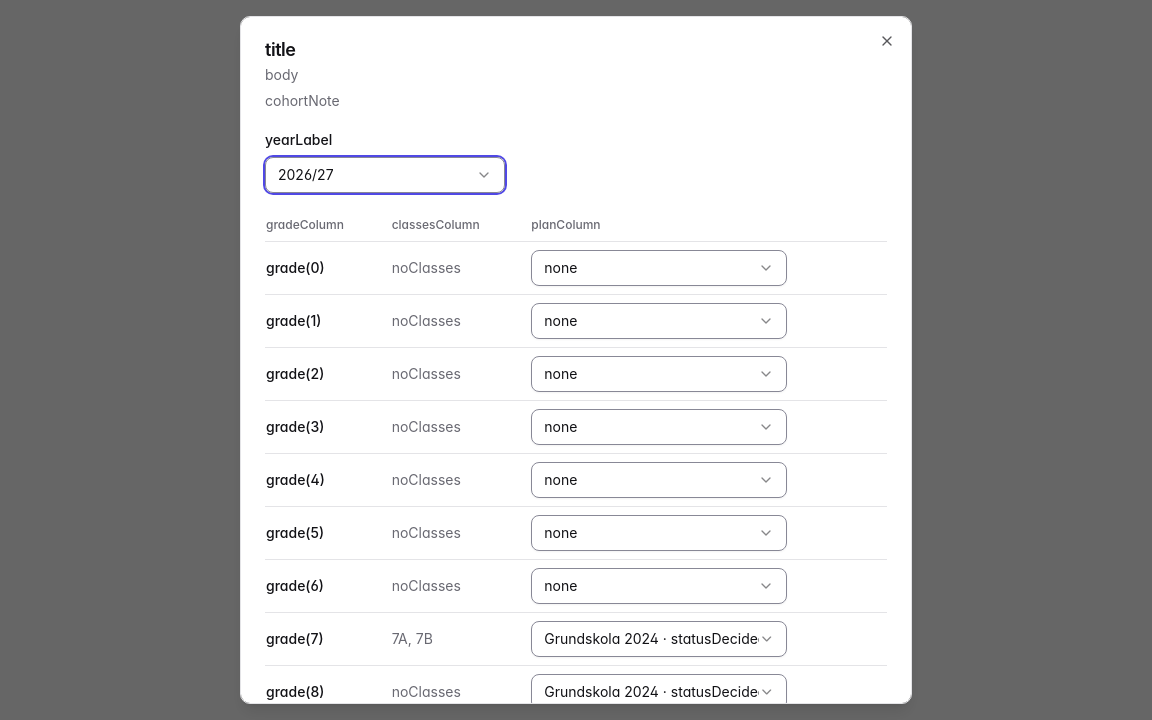
Test case: YearTimplansDialog › will not switch läsår over unsaved choices
The width and height of the screenshot is (1152, 720).
Expected: the dropdown named "yearLabel" is enabled, top-left (265, 157), bottom-right (505, 193)
Click the dropdown labelled "none" in the row of "grade(0)". click: (659, 268)
box: top-left (531, 250), bottom-right (787, 286)
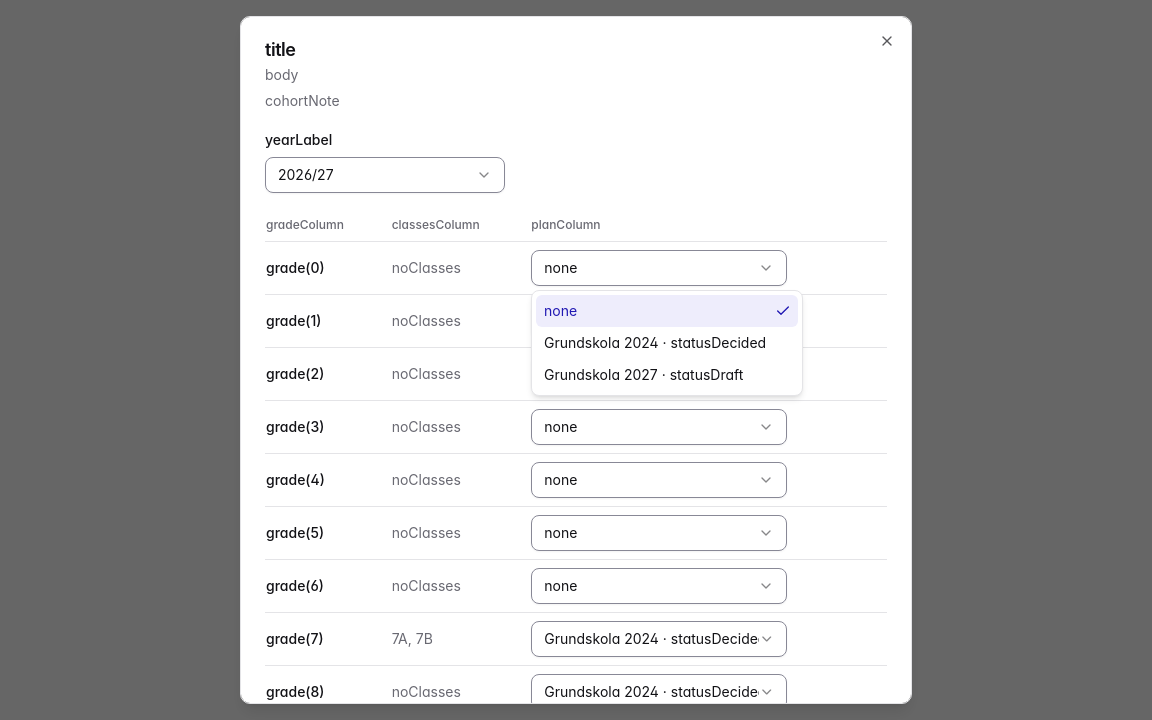
Click the option "Grundskola 2024 · statusDecided". click: (655, 342)
box: top-left (544, 334), bottom-right (766, 351)
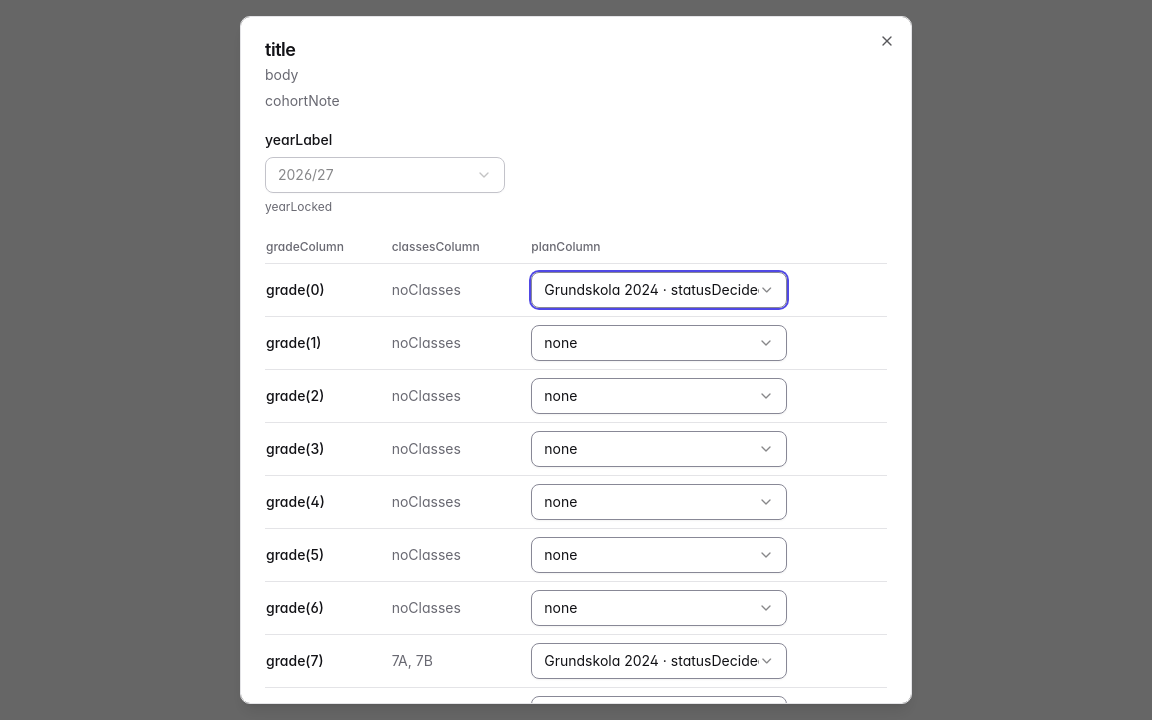
Now the dropdown named "yearLabel" is disabled, box top-left (265, 157), bottom-right (505, 193)
Now the text "yearLocked" is shown, box top-left (265, 199), bottom-right (332, 214)
